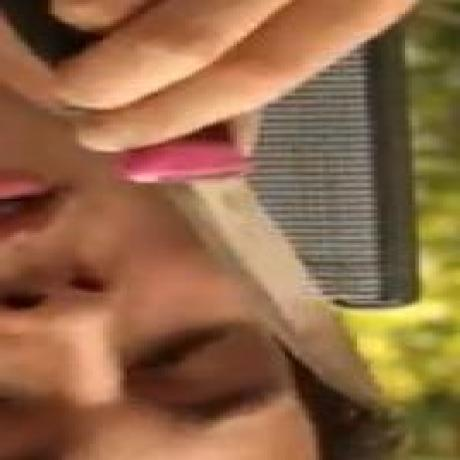1: (0, 0, 460, 460)
weapon: (116, 140, 385, 406)
